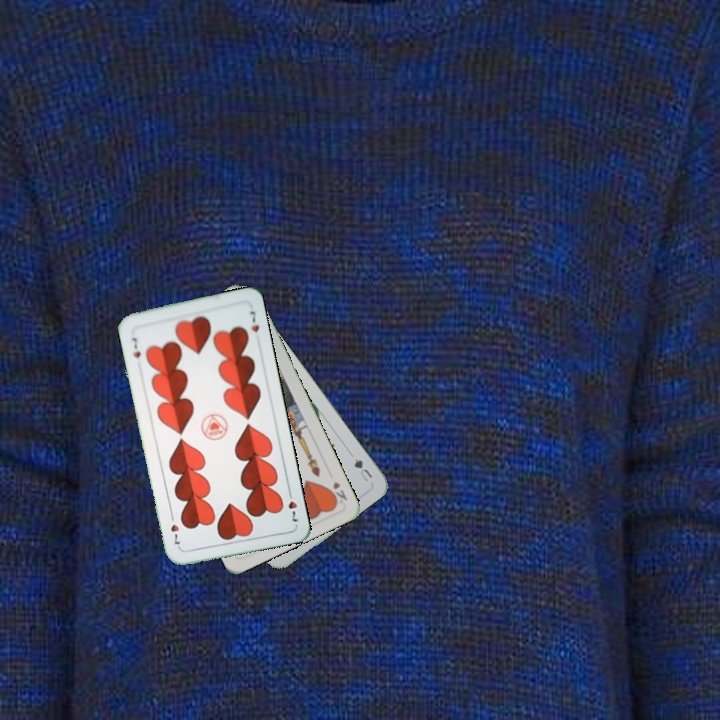GU: (346, 449, 375, 484)
H7: (284, 486, 301, 525), (128, 334, 143, 361)
HK: (325, 477, 350, 507)
